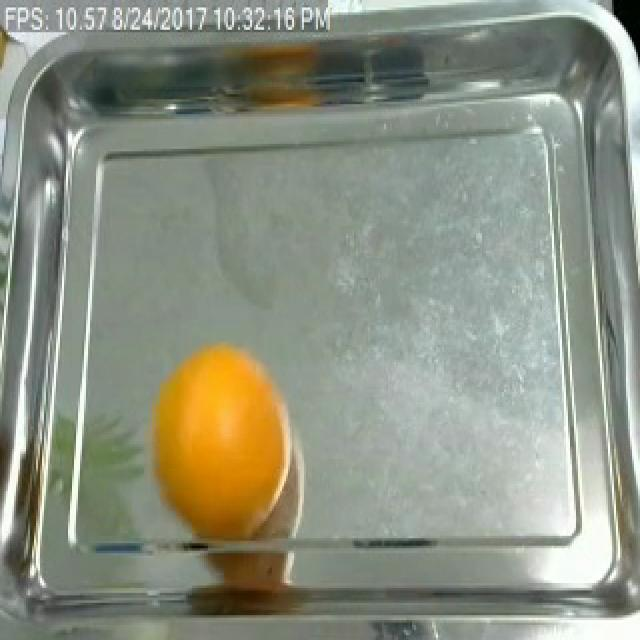Fruit: (136, 340, 302, 556), (0, 2, 18, 112)
